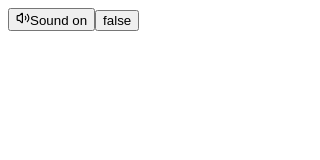
Scenario: MuteButton › follows changes made elsewhere through the engine
The width and height of the screenshot is (320, 160).
Click the button with class "other": (117, 20) 95,10 -> 139,31
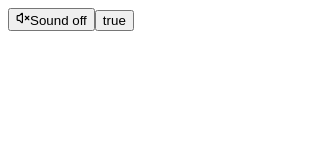
Expected: the button with class "other" reads "true", 95,10 -> 134,31
